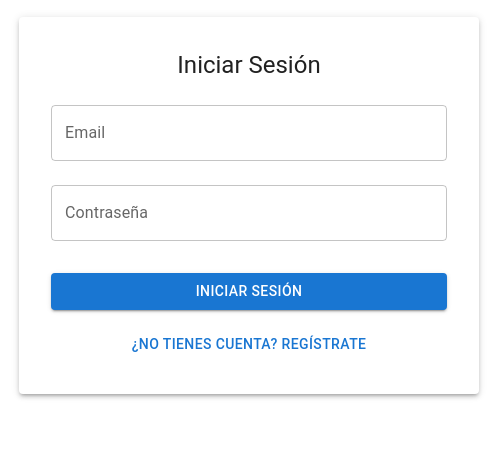
Scenario: Login Page › should show validation errors for empty fields
Click the submit button.
click(249, 292)  # box [51,273,447,310]
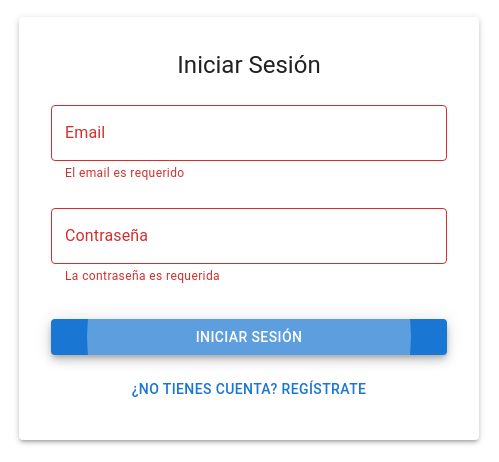
expect the text "El email es requerido" is shown: met, box [65,166,185,180]
expect the text "La contraseña es requerida" is shown: met, box [65,269,220,283]
